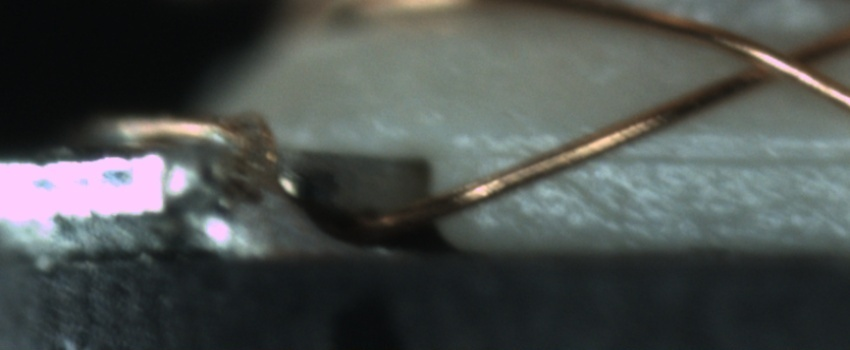CL: (725, 28, 836, 94)
DL: (468, 125, 849, 184)
TE: (84, 101, 277, 157)
